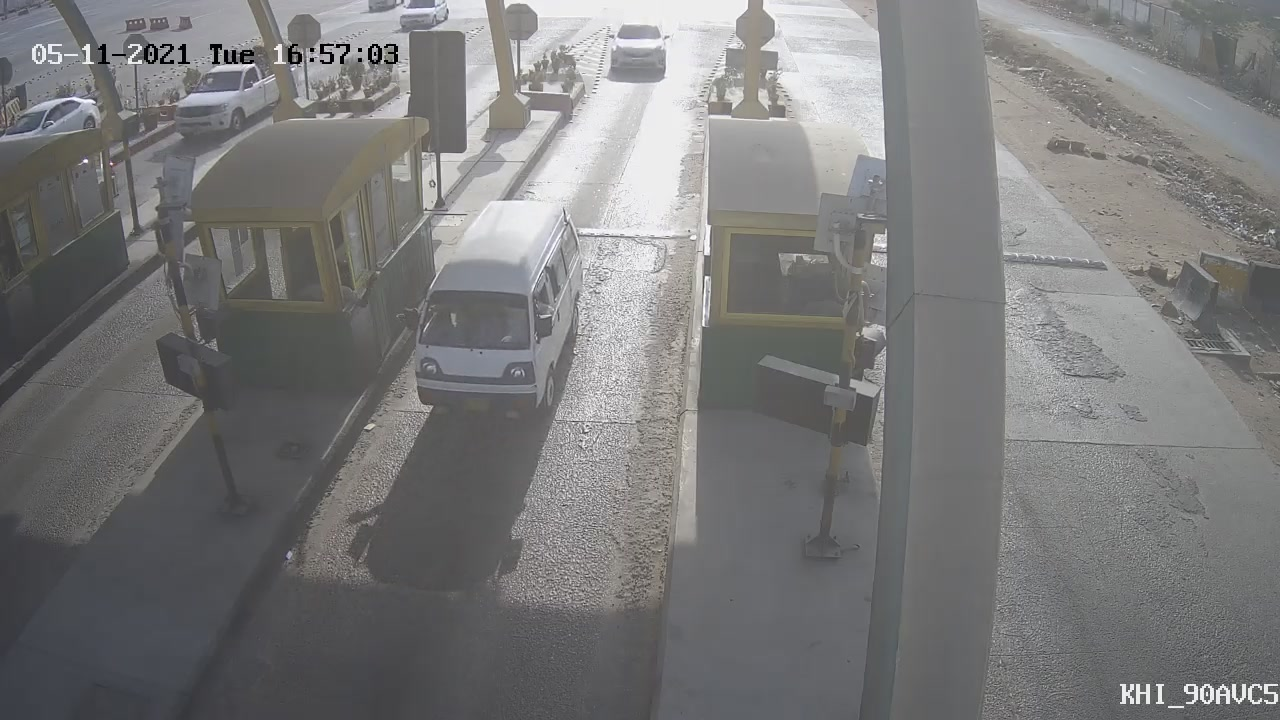F1: (374, 182, 601, 444)
